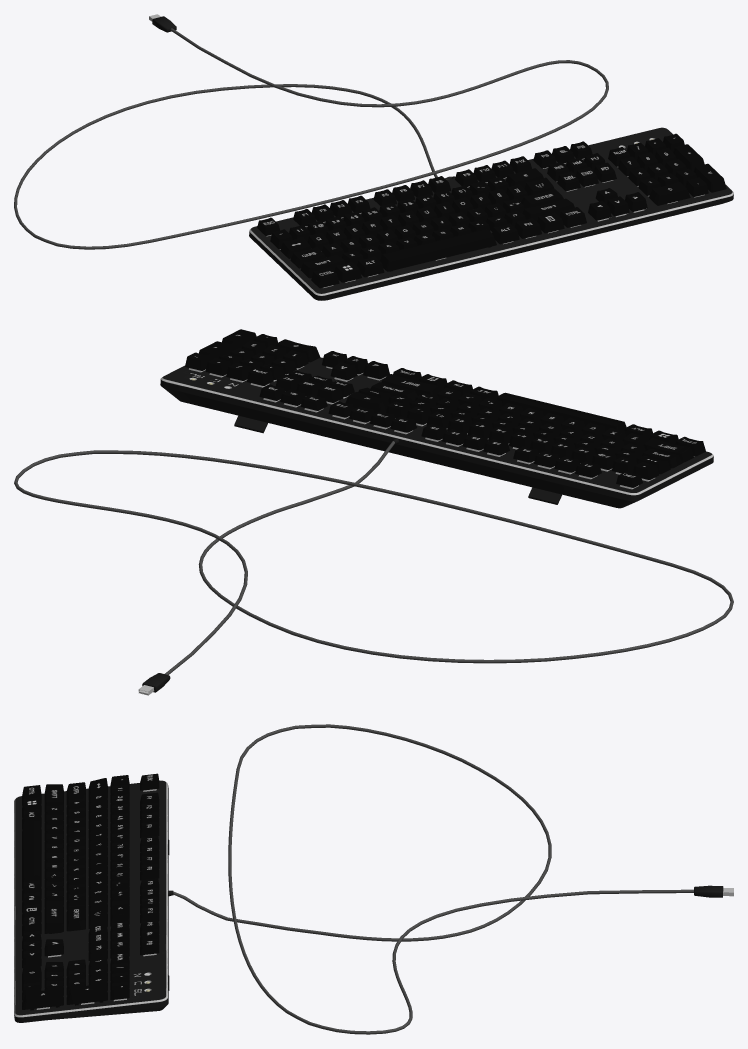
File: teclado-mecanico.glb
3 views of the same model, one above another, from view 1: azimuth 30°, elevation 25°; view 2: azimuth 150°, elevation 25°; view 3: azimuth 270°, elevation 25° (orthographic). The views are drawn at different scales.
Parts seen in each view (by area): view 1: keyboard_Key_0, keyboard_Keyboard_0; view 2: keyboard_Key_0, keyboard_Keyboard_0; view 3: keyboard_Key_0, keyboard_Keyboard_0.
Part boxes in pixels (x1,y1,x2,y2): keyboard_Key_0: (257, 133, 726, 288); keyboard_Keyboard_0: (14, 14, 733, 300); keyboard_Key_0: (185, 329, 705, 487); keyboard_Keyboard_0: (14, 357, 733, 695); keyboard_Key_0: (22, 773, 159, 1010); keyboard_Keyboard_0: (14, 724, 733, 1034).
Bounding box in the file's own units: 57.22 × 3.14 × 55.99.
Materials: 2 (2 with a texture image).
